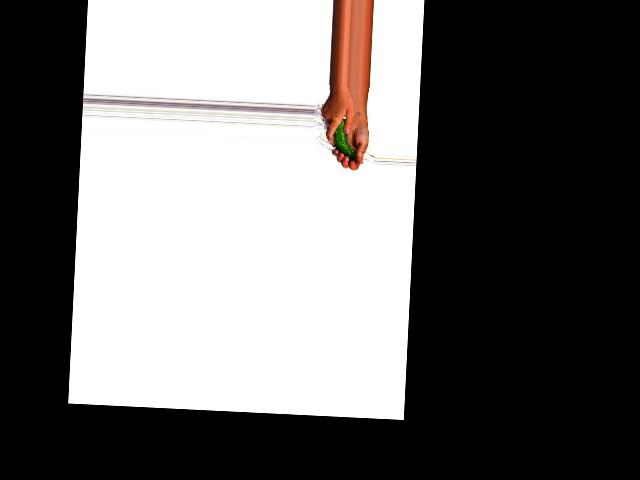cucumber: (331, 117, 358, 162)
